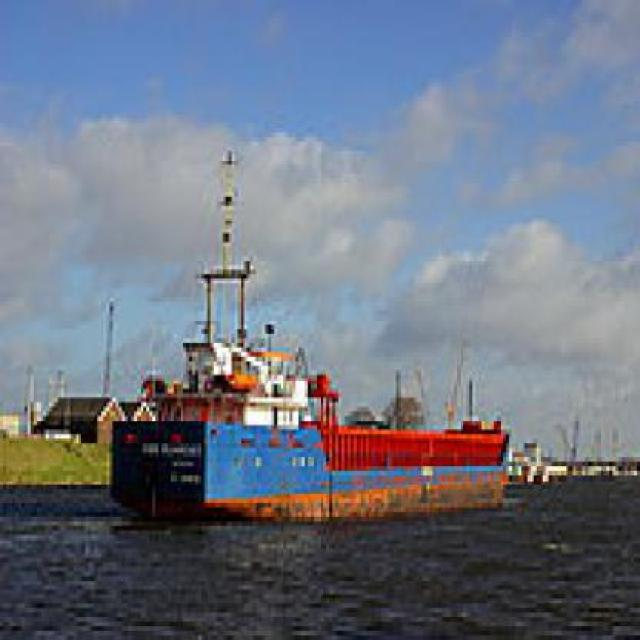container: (98, 124, 519, 541)
